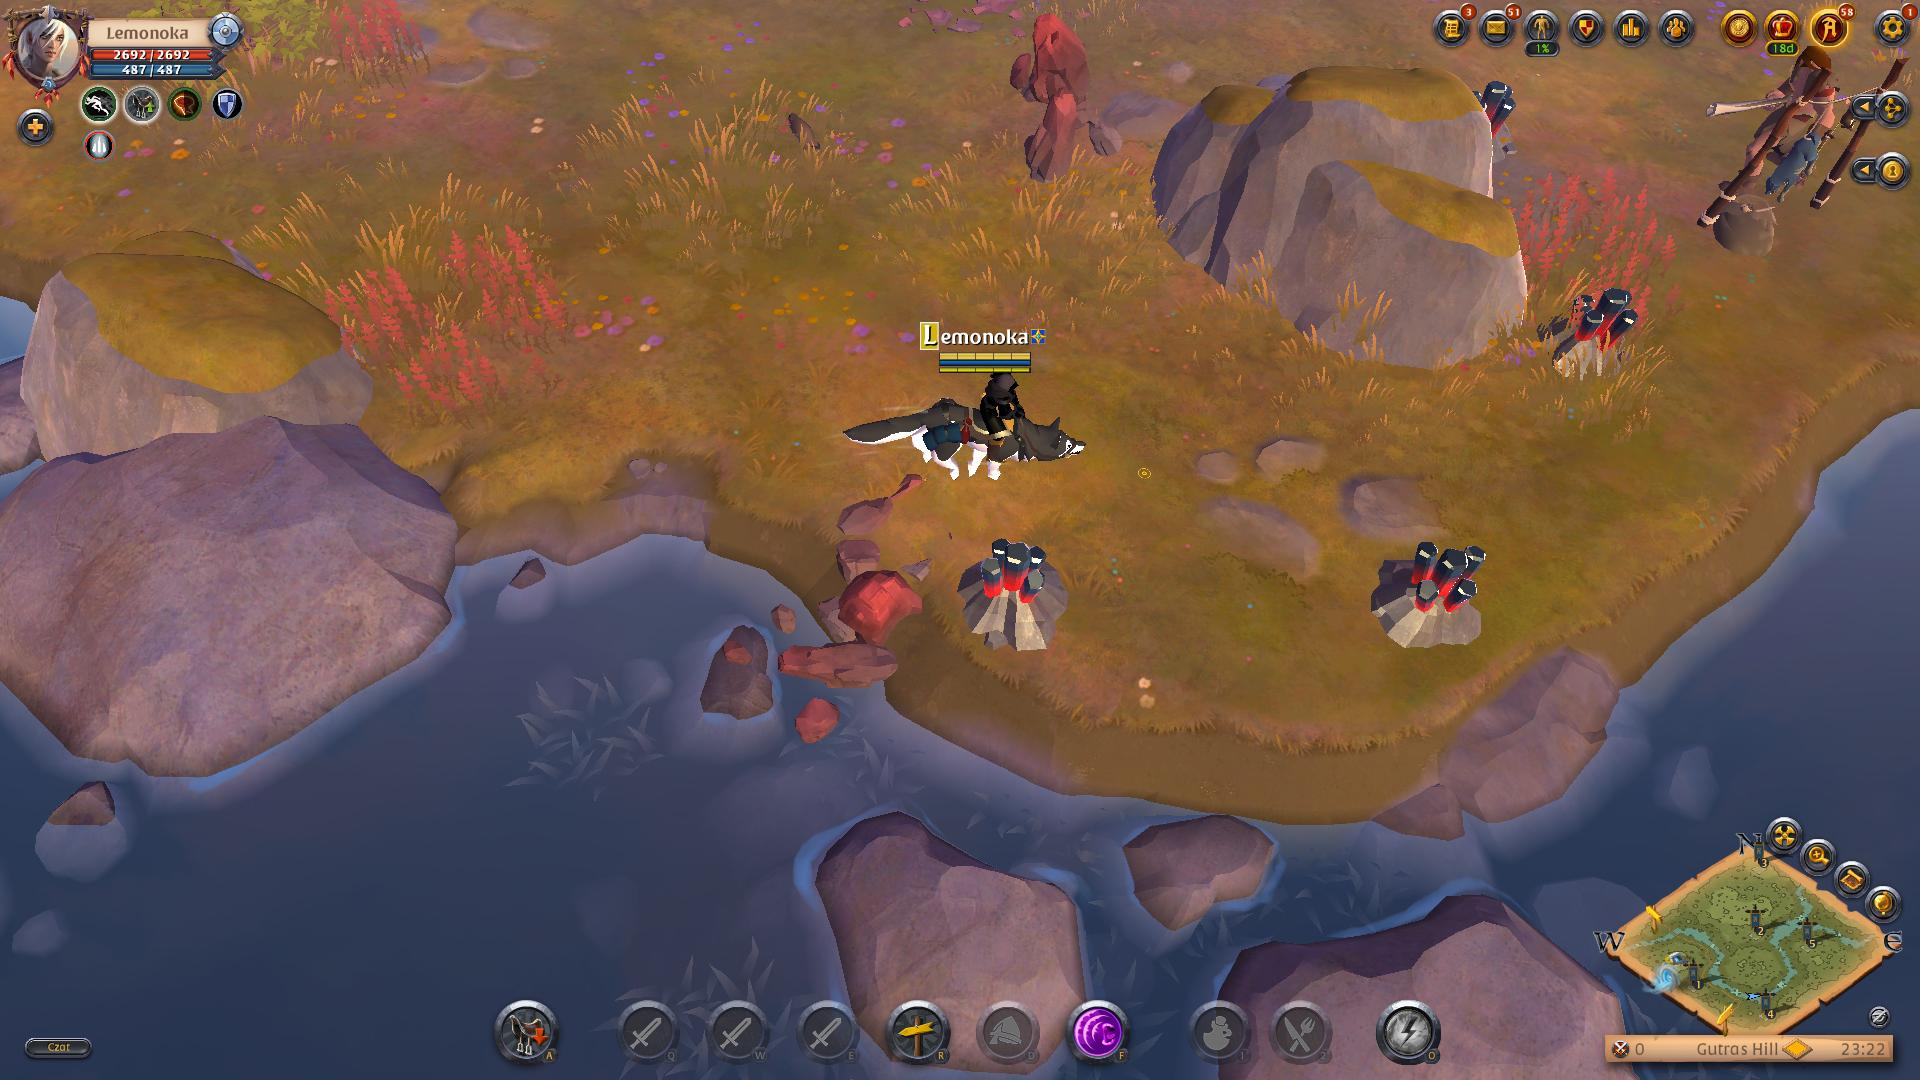ore tier 5: (1360, 529, 1490, 657), (953, 538, 1087, 655), (1540, 282, 1642, 392)
